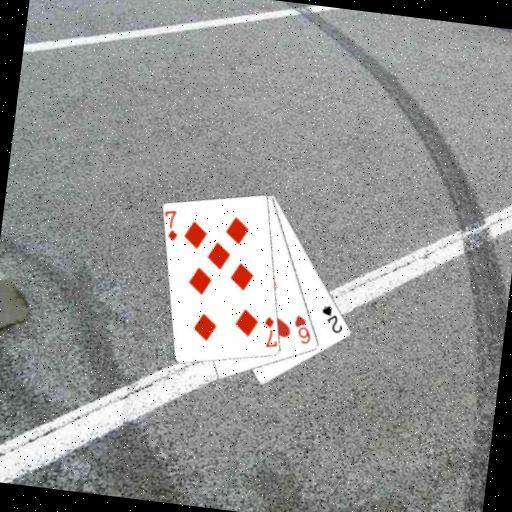2S: (316, 302, 347, 336)
6H: (289, 312, 315, 347)
7D: (259, 313, 282, 350), (160, 207, 182, 244)
